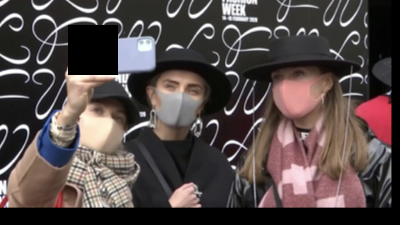with_mask: (78, 99, 127, 153), (156, 77, 205, 130), (272, 66, 322, 117)
